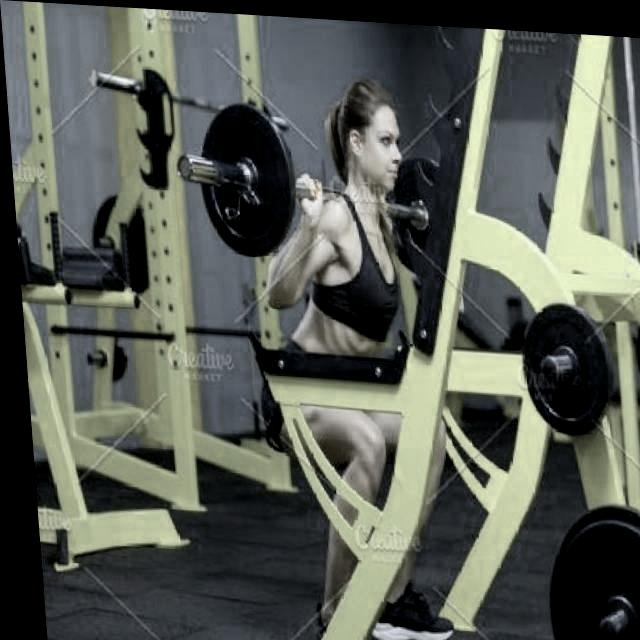barbell: (168, 95, 297, 257)
